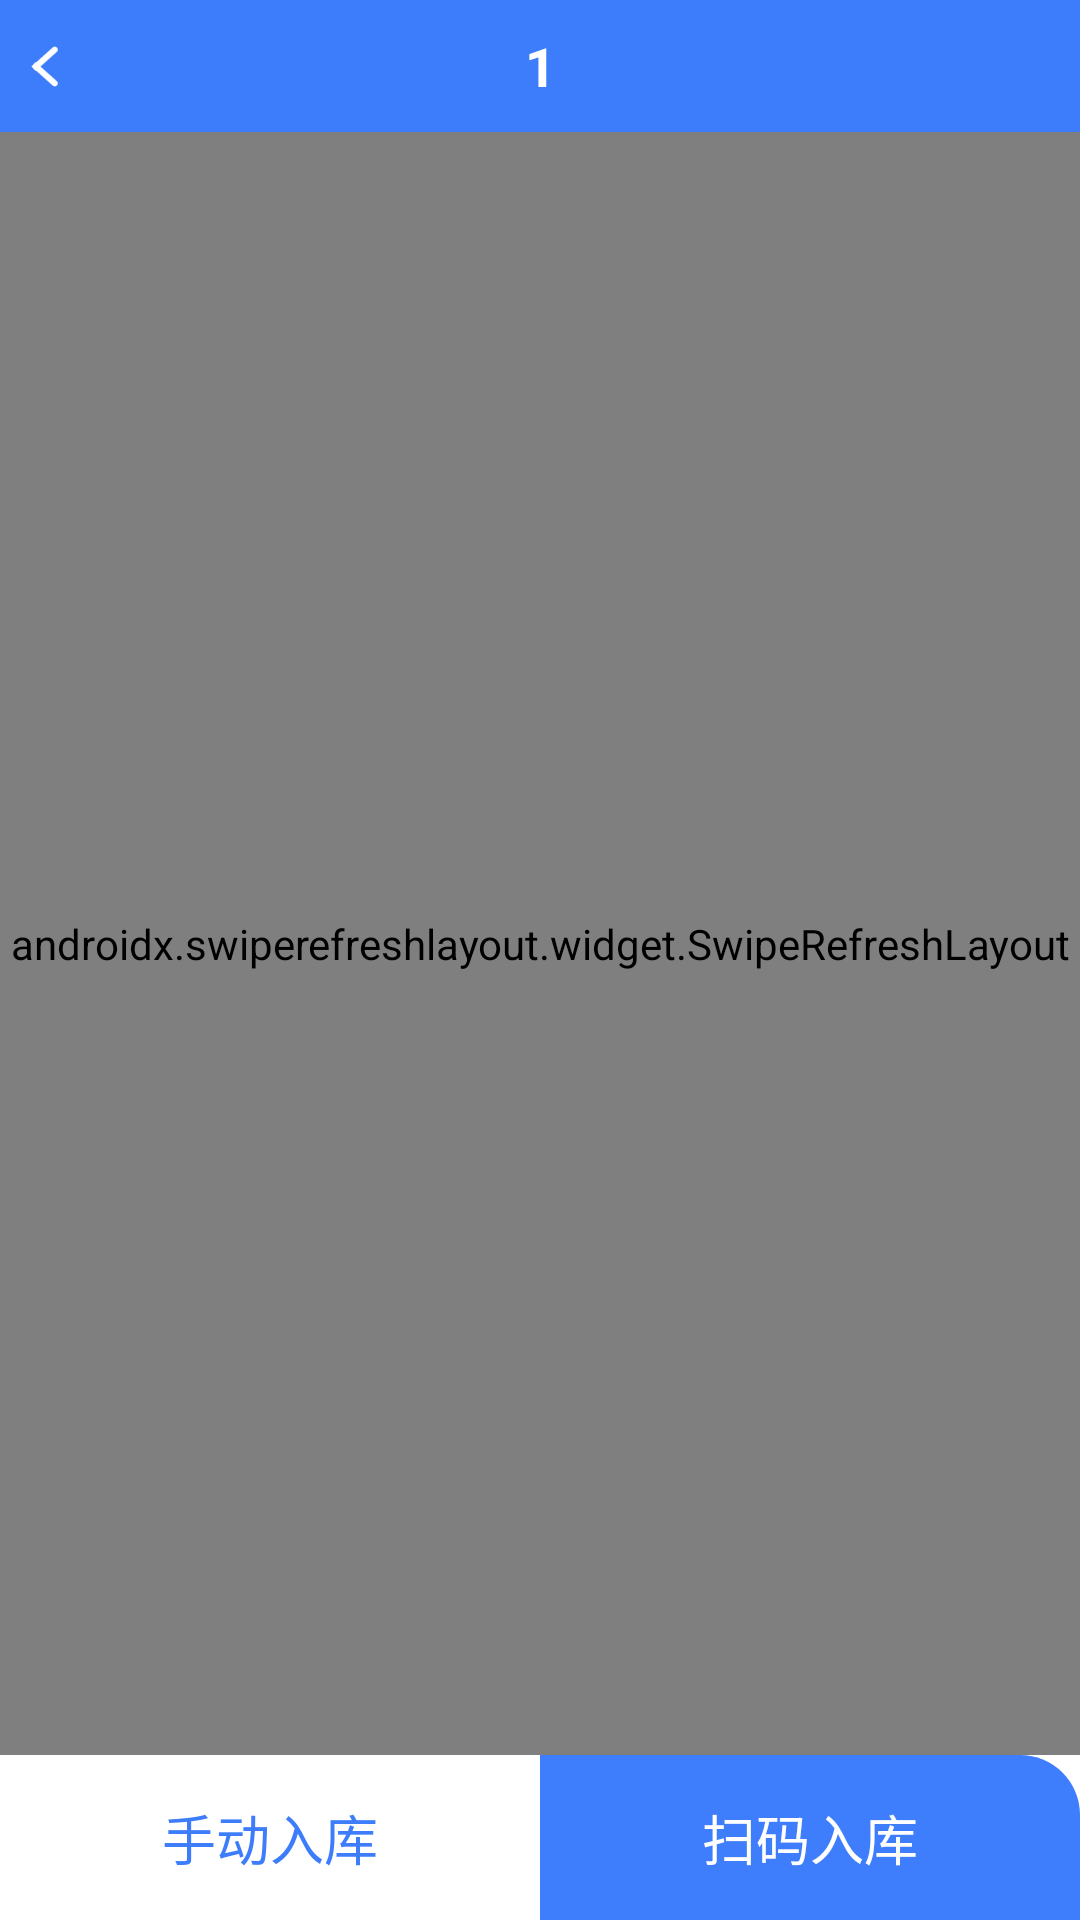

Icon bounding boxes for this 1080px x 1920px phone screenshot, format (x1, y1, x2, y2):
back bai: (31, 46, 58, 87)
